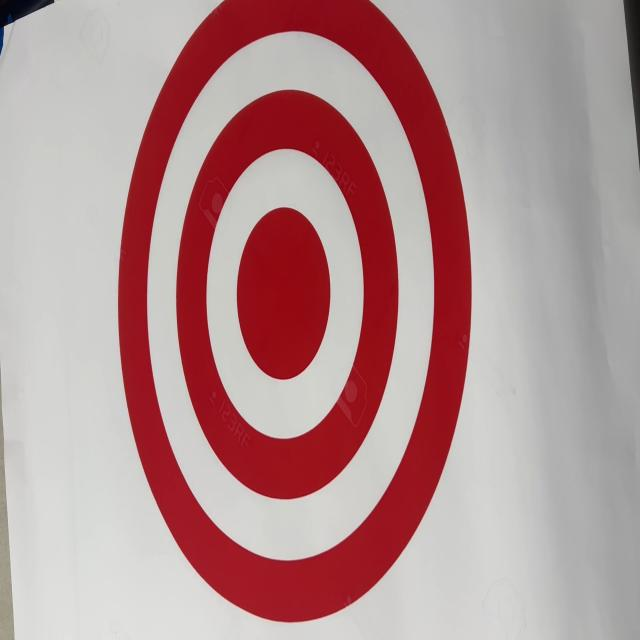target_red: (103, 2, 480, 640)
